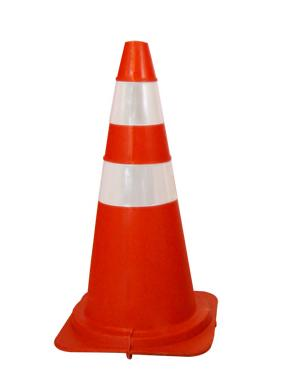traffic_cone: (54, 39, 219, 359)
